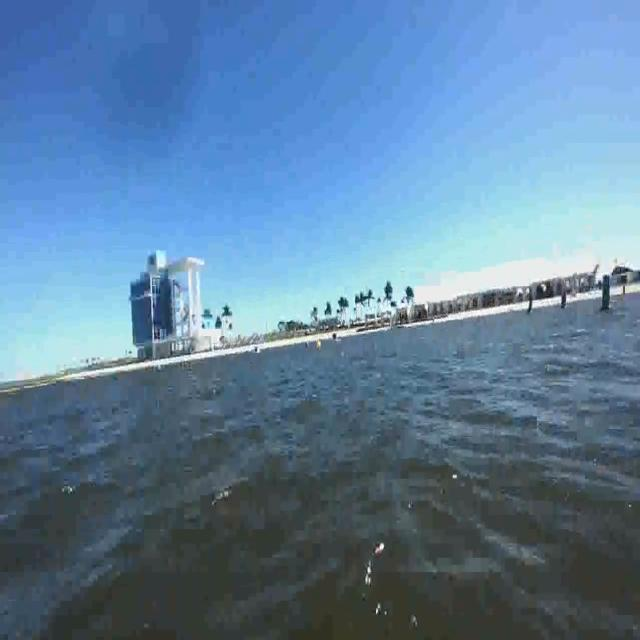yellow-buoy: (315, 337, 322, 353)
